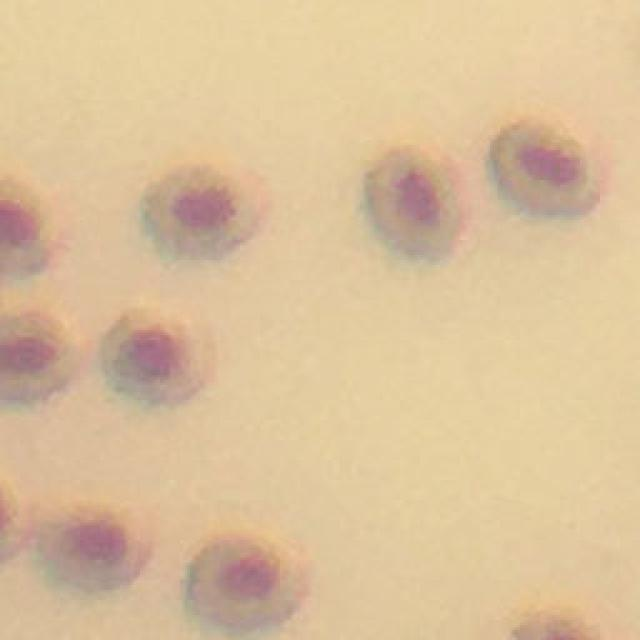RBC: (29, 502, 149, 596), (142, 163, 263, 256), (106, 306, 214, 403), (365, 148, 458, 259), (491, 123, 596, 219), (186, 540, 299, 628), (0, 314, 77, 401), (0, 182, 56, 283)
